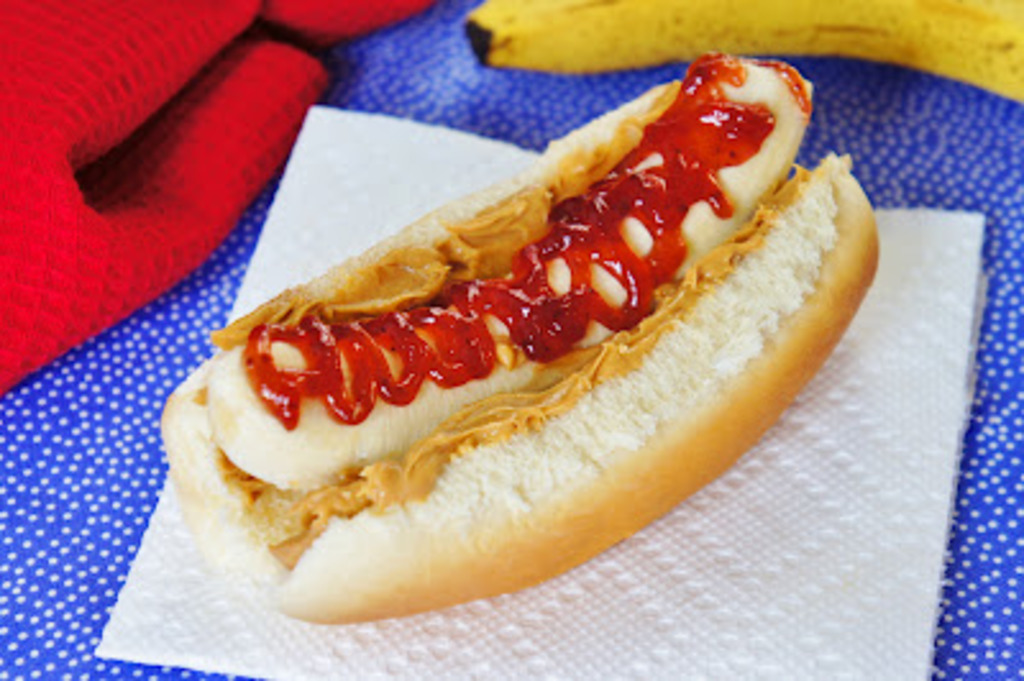hot_dog: (151, 41, 888, 630)
